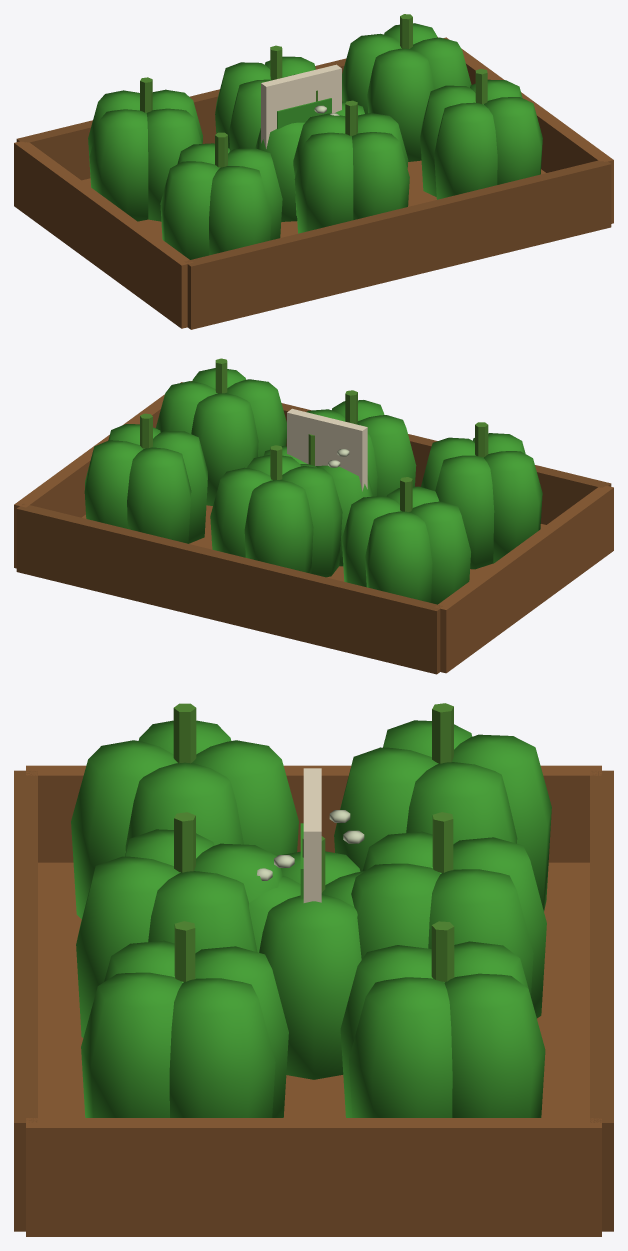
The model's file is Veg_BellPepper.fbx.
3 renders of one model, top to bottom at view 1: azimuth 30°, elevation 25°; view 2: azimuth 150°, elevation 25°; view 3: azimuth 270°, elevation 25°, orthographic. The views are drawn at different scales.
Parts seen in each view (by area): view 1: Veg_BellPepper__Stack, Veg_BellPepper__Seed, Veg_BellPepper; view 2: Veg_BellPepper__Stack, Veg_BellPepper__Seed, Veg_BellPepper; view 3: Veg_BellPepper__Stack, Veg_BellPepper, Veg_BellPepper__Seed, Veg_BellPepper__Rotten.
Boxes of the visible parts, box(x1,y1,x2,y2) form: Veg_BellPepper__Stack: box(14, 14, 613, 329); Veg_BellPepper__Seed: box(261, 64, 341, 149); Veg_BellPepper: box(255, 90, 364, 221); Veg_BellPepper__Stack: box(14, 358, 613, 674); Veg_BellPepper__Seed: box(287, 408, 367, 491); Veg_BellPepper: box(264, 434, 373, 566); Veg_BellPepper__Stack: box(14, 703, 613, 1236); Veg_BellPepper: box(249, 836, 364, 1079); Veg_BellPepper__Seed: box(300, 768, 321, 902); Veg_BellPepper__Rotten: box(257, 810, 364, 880).
Size of the model in its own units: 0.286 by 0.09 by 0.2.
